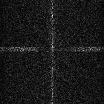wifi: (1, 46, 104, 52)
